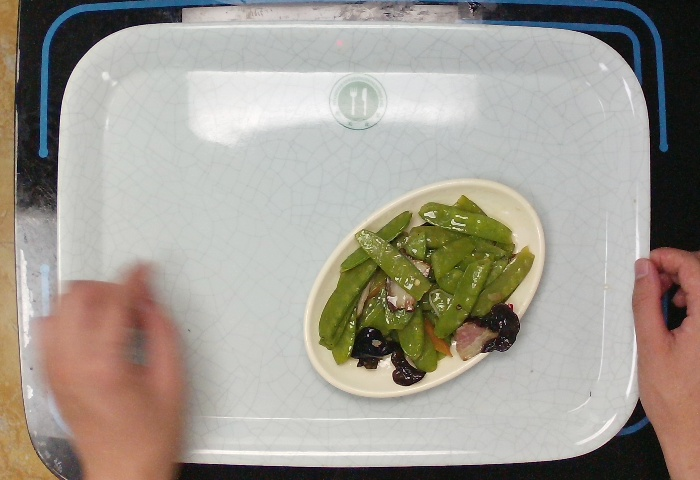JYsf-Tuo_Yuan_Wan: (300, 174, 550, 405)
